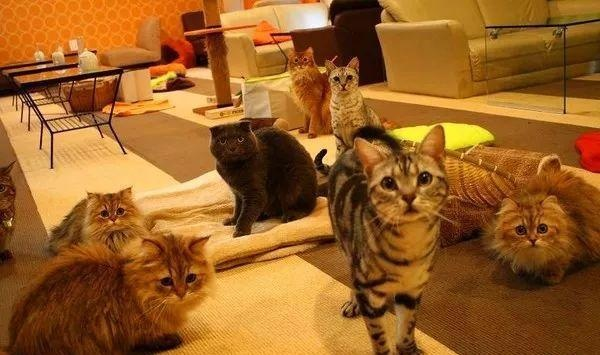cat: (314, 124, 449, 355), (1, 230, 218, 355), (480, 168, 600, 285), (209, 120, 318, 238), (48, 186, 146, 256), (324, 57, 385, 152), (287, 46, 338, 138), (1, 160, 17, 269)
